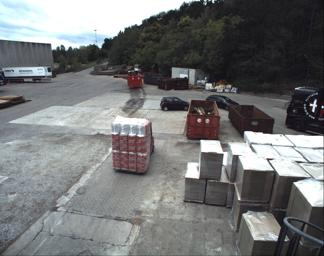rockwool_batts: (110, 115, 151, 171)
